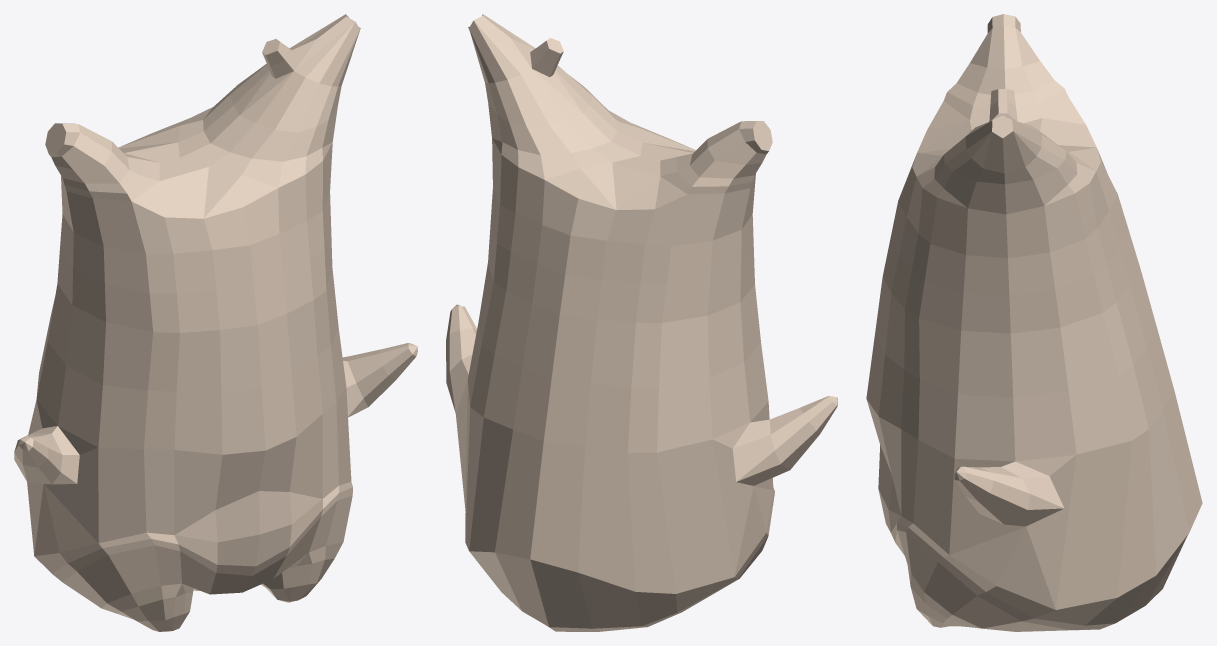
File: frame_0123.obj
3 views of the same model, side by side, from view 1: azimuth 30°, elevation 25°; view 2: azimuth 150°, elevation 25°; view 3: azimuth 270°, elevation 25° (orthographic). The views are drawn at different scales.
Parts seen in each view (by area): view 1: korok; view 2: korok; view 3: korok.
Part boxes in pixels (x1,y1,x2,y2): korok: [14, 14, 417, 631]; korok: [446, 14, 837, 631]; korok: [866, 14, 1202, 631].
Size of the model in its own units: 1.46 by 1.95 by 1.05.
